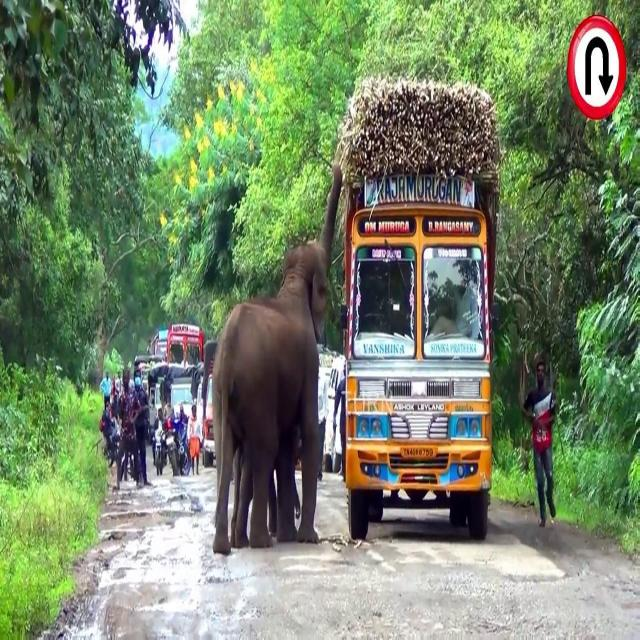Elephant: (211, 165, 342, 556)
